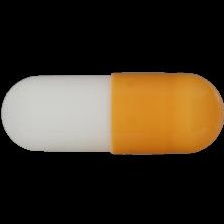50090-1501: (0, 0, 224, 224)
